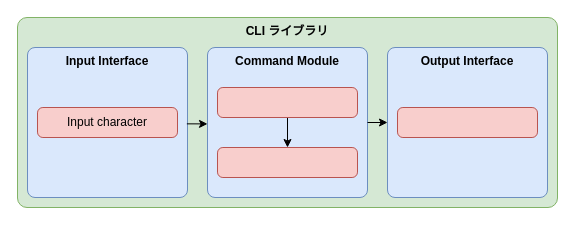
Image size: 575x225. Some labels were removed from this diagram. The shapes that lost their labels are listed below. From the top down, each one's centre as x and y in pixels, then its label:
(287,102): Command Line Edhitor
(467,122): Output character
(287,162): Command processor
